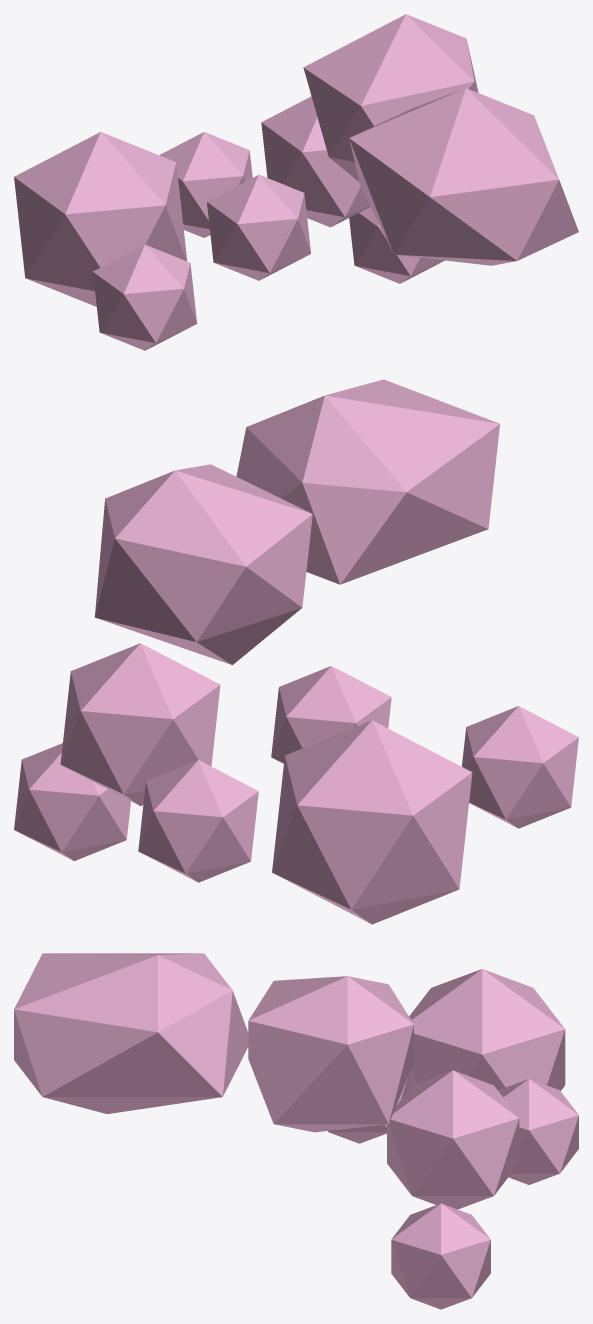
Rendered from Sakark.glb.
The picture shows the model from 3 angles, top to bottom: view 1: azimuth 30°, elevation 25°; view 2: azimuth 150°, elevation 25°; view 3: azimuth 270°, elevation 25°; orthographic projection. The views are drawn at different scales.
Visible parts, largest first — view 1: Icosphere, Icosphere.005, Icosphere.001, Icosphere.007, Icosphere.006, Icosphere.003, Icosphere.004, Icosphere.002; view 2: Icosphere, Icosphere.001, Icosphere.005, Icosphere.003, Icosphere.004, Icosphere.007, Icosphere.002, Icosphere.006; view 3: Icosphere, Icosphere.001, Icosphere.005, Icosphere.003, Icosphere.002, Icosphere.004, Icosphere.006.
Part boxes in pixels (x1,y1,x2,y2): Icosphere: [349, 88, 578, 265]; Icosphere.005: [14, 132, 187, 306]; Icosphere.001: [303, 14, 478, 181]; Icosphere.007: [93, 244, 197, 350]; Icosphere.006: [207, 174, 310, 280]; Icosphere.003: [261, 96, 370, 227]; Icosphere.004: [159, 132, 252, 237]; Icosphere.002: [349, 207, 444, 283]; Icosphere: [236, 379, 499, 584]; Icosphere.001: [94, 464, 312, 664]; Icosphere.005: [272, 720, 472, 924]; Icosphere.003: [60, 643, 220, 805]; Icosphere.004: [138, 760, 258, 882]; Icosphere.007: [462, 706, 578, 828]; Icosphere.002: [14, 743, 130, 861]; Icosphere.006: [271, 666, 391, 763]; Icosphere: [14, 953, 248, 1114]; Icosphere.001: [248, 976, 413, 1132]; Icosphere.005: [409, 969, 565, 1090]; Icosphere.003: [387, 1070, 519, 1209]; Icosphere.002: [391, 1203, 490, 1309]; Icosphere.004: [498, 1079, 578, 1184]; Icosphere.006: [328, 1074, 409, 1143].
Bounding box in the file's own units: 8.08 × 5.98 × 9.64.
